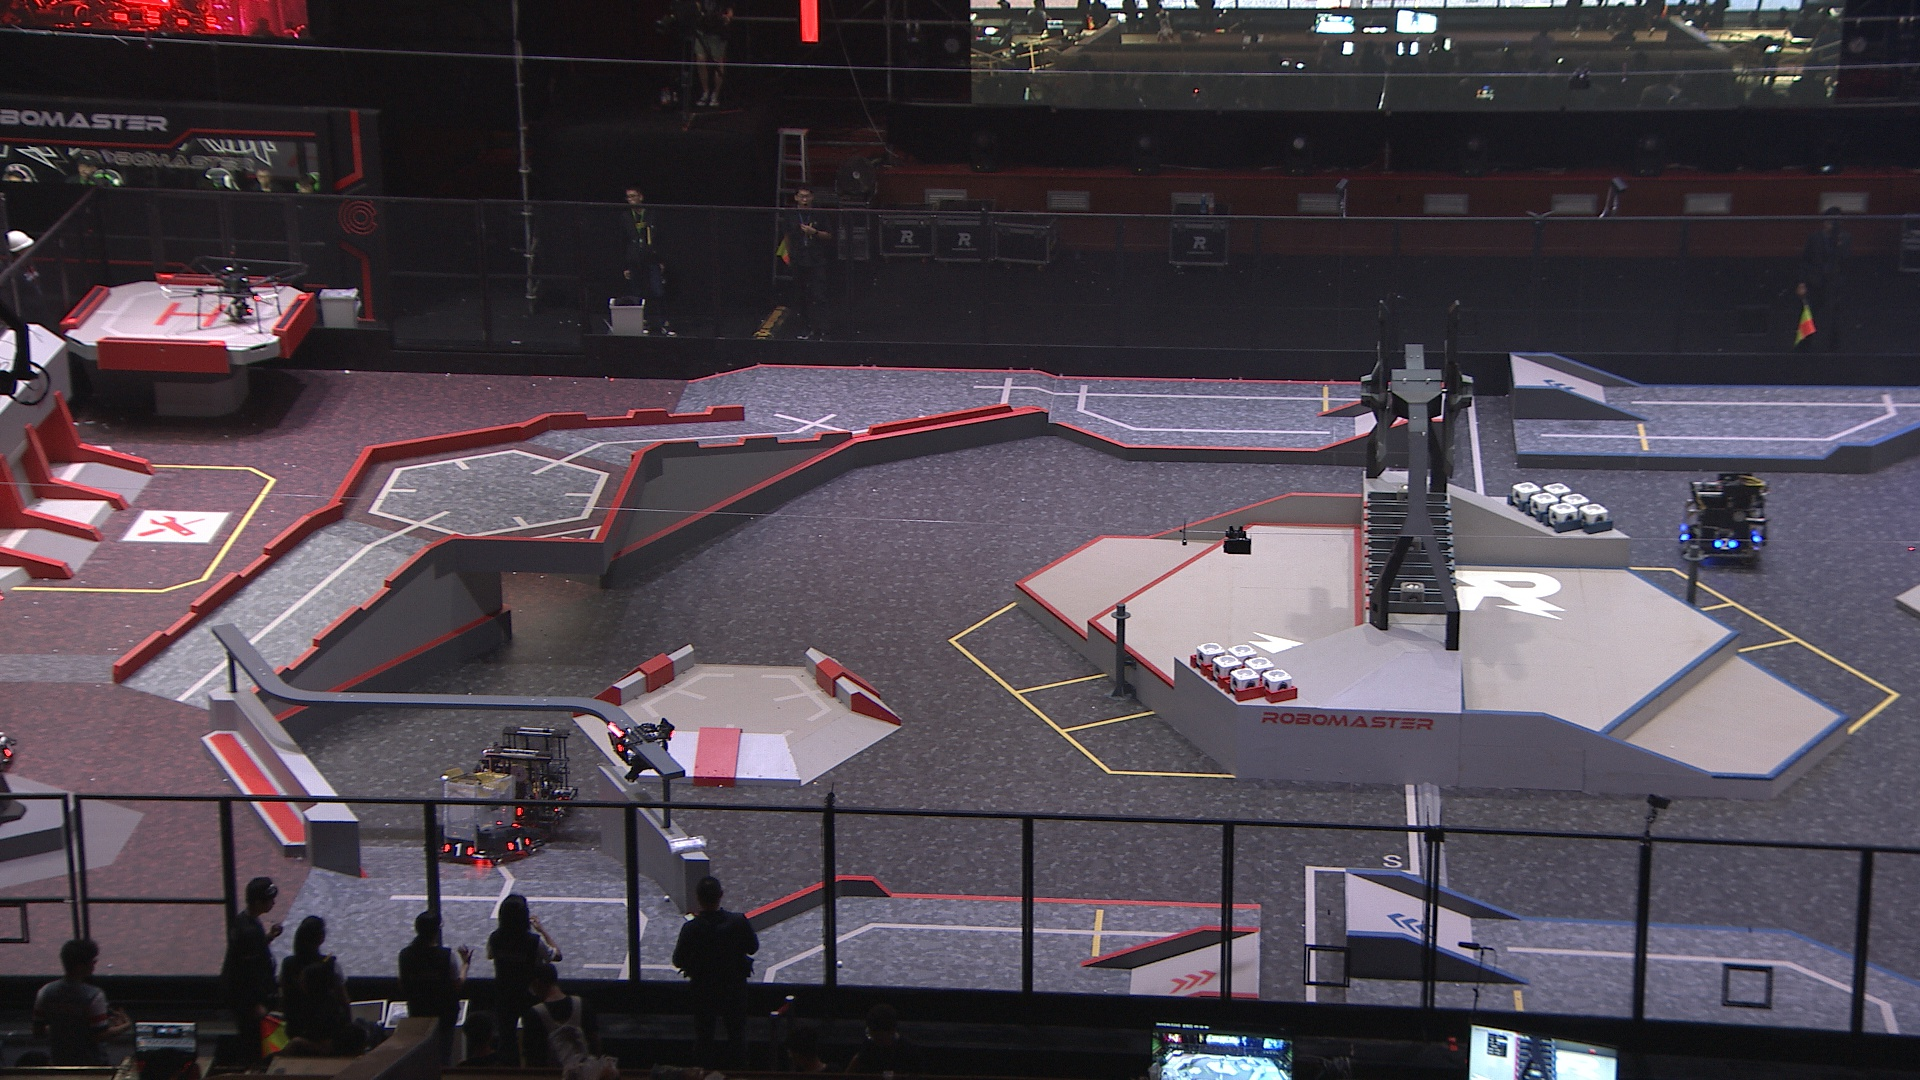armor: (442, 837, 476, 860), (502, 832, 531, 853), (605, 732, 626, 756), (1712, 534, 1738, 553), (1675, 524, 1693, 543), (0, 738, 17, 760)
car: (469, 723, 578, 851), (423, 764, 547, 869), (1671, 467, 1774, 566)
watcher: (603, 716, 675, 782)
